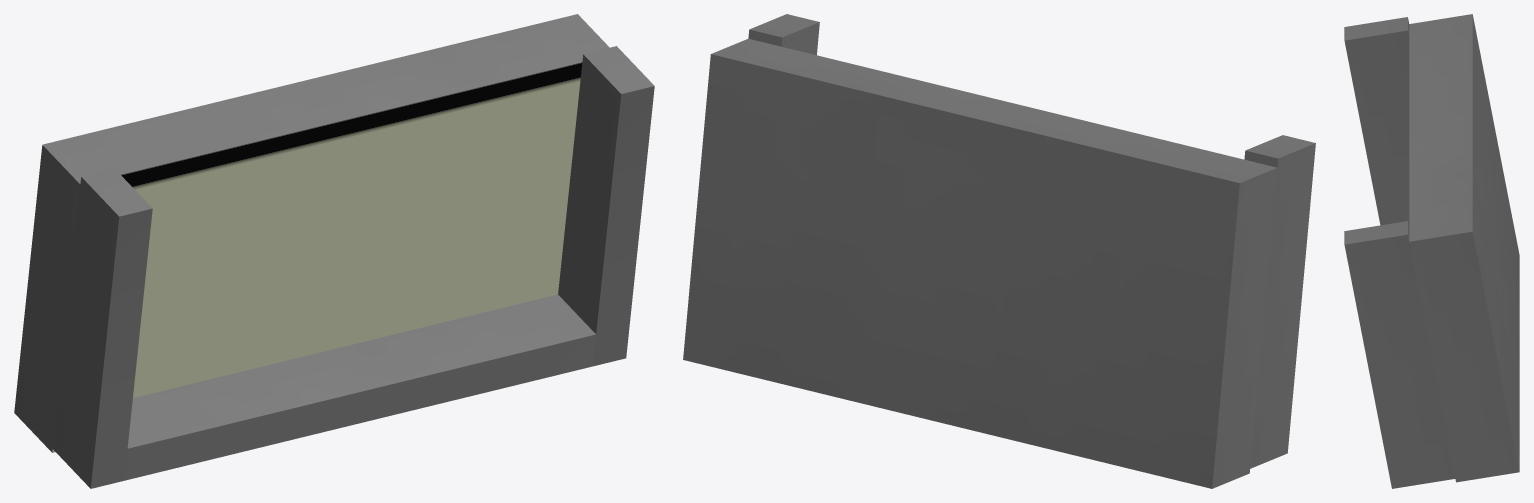
Rendered from dc_metro_arch_c5.obj.
The picture shows the model from 3 angles, left to right: view 1: azimuth 30°, elevation 25°; view 2: azimuth 150°, elevation 25°; view 3: azimuth 270°, elevation 25°; orthographic projection. The views are drawn at different scales.
Visible parts, largest first — view 1: part5; view 2: part5; view 3: part5.
Boxes of the visible parts, bbox=[...] form: part5: bbox=[14, 14, 654, 488]; part5: bbox=[683, 14, 1315, 488]; part5: bbox=[1344, 14, 1519, 488].
Bounding box in the file's own units: 2 × 1.1 × 0.6796.
Materials: 2 (2 with a texture image).
